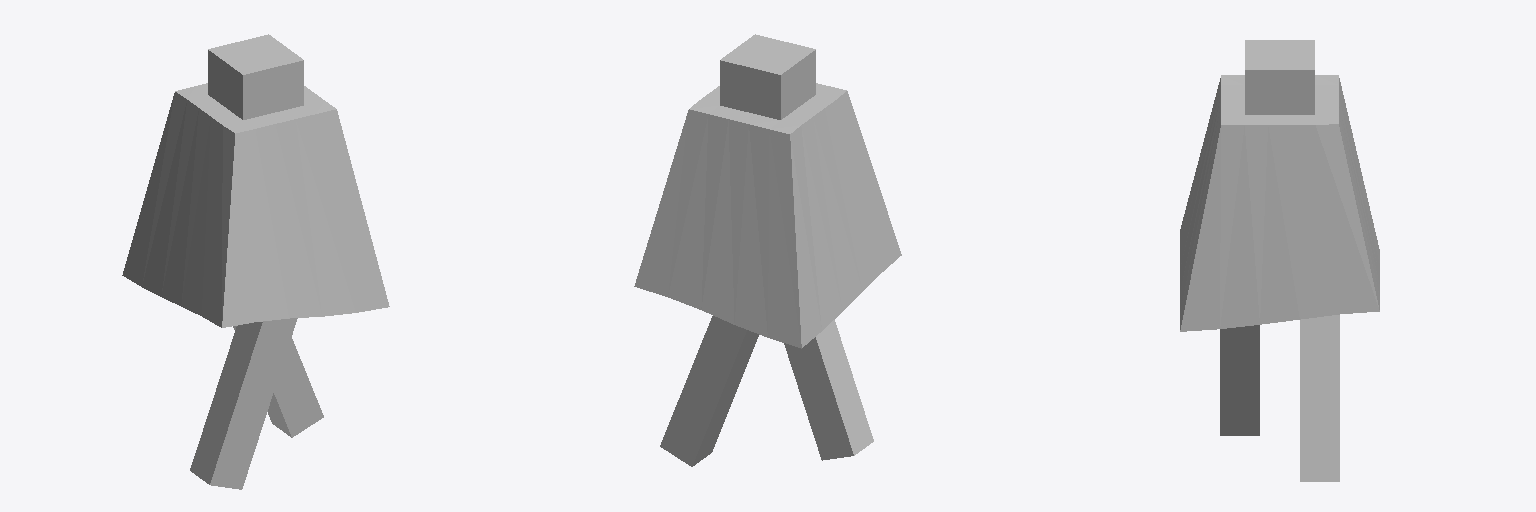
File: essai_000039.obj
The picture shows the model from 3 angles: view 1: azimuth 30°, elevation 25°; view 2: azimuth 150°, elevation 25°; view 3: azimuth 270°, elevation 25°; orthographic projection.
Visible parts, largest first — view 1: Cube; view 2: Cube; view 3: Cube.
Boxes of the visible parts, box(x1,y1,x2,y2) form: Cube: box(122, 34, 389, 489); Cube: box(634, 34, 901, 466); Cube: box(1180, 40, 1379, 481).
Bounding box in the file's own units: 1.96 × 4.45 × 2.